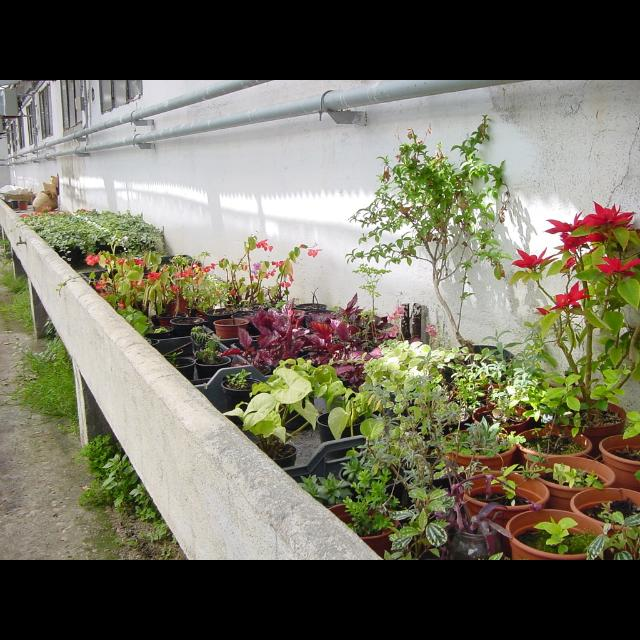Flower: (564, 198, 630, 250), (553, 278, 589, 310), (510, 247, 562, 269), (546, 211, 590, 237), (596, 256, 640, 276)
